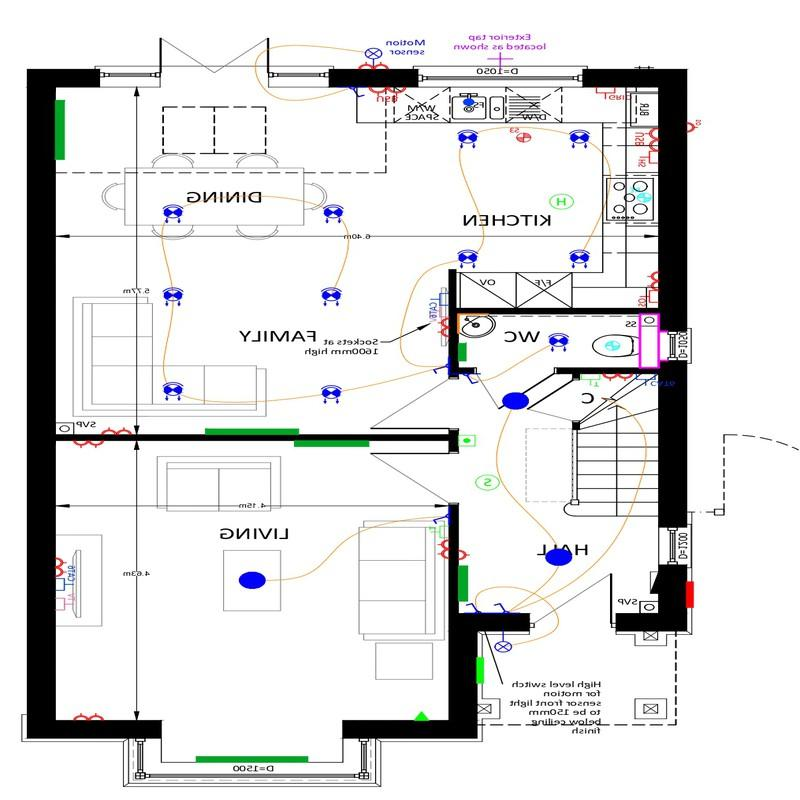BT Entry Point: (411, 706, 433, 723)
Cat 6 Data Socket: (53, 577, 89, 592), (635, 371, 658, 394), (428, 288, 450, 307)
Ceiling Mounted Continuous Extract Fan With Boost Mode Activated By Light Switch: (600, 337, 627, 358)
Ceiling Mounted Continuous Extract Fan With Local Boost Switch: (505, 120, 535, 148)
Co-Ax TV Socket: (55, 596, 80, 620), (422, 306, 449, 318)
Consumer Unit: (644, 564, 662, 601)
Double Socket: (68, 438, 111, 451), (100, 422, 138, 436), (603, 370, 632, 388), (69, 709, 108, 722), (355, 57, 390, 71), (640, 266, 659, 291), (431, 317, 449, 340), (53, 553, 70, 577), (432, 538, 450, 560)
Electric Meter Box: (682, 577, 702, 613)
External Wall Light: (492, 628, 515, 661), (363, 37, 386, 68)
Gas Meter Box: (474, 657, 489, 690)
Grid Switch: (592, 86, 633, 104)
Hob Switch: (635, 146, 659, 169)
Light Switch: (345, 83, 371, 102), (430, 358, 450, 381), (463, 599, 489, 614), (459, 373, 483, 388), (429, 510, 450, 526), (493, 599, 515, 614)
Low Energy Downlighter: (156, 375, 190, 410), (452, 126, 489, 154), (563, 242, 595, 274), (318, 380, 350, 410), (157, 280, 188, 310), (319, 279, 342, 317), (155, 200, 189, 225), (544, 326, 573, 355), (318, 199, 348, 226), (455, 245, 483, 272), (565, 128, 591, 154)
Low Energy Pendant Light: (536, 542, 584, 569), (233, 565, 274, 594), (501, 387, 533, 417)
Mains Wired Smoke Detector: (473, 471, 499, 494)
Outside Socket: (685, 114, 705, 143)
Outside Tap: (478, 48, 518, 75)
Oven Switch: (635, 287, 660, 310)
Programmable Room Thermostat: (458, 432, 477, 449)
Radiator: (189, 750, 314, 764), (50, 97, 75, 164), (198, 423, 304, 436), (281, 437, 371, 452), (455, 564, 478, 605), (456, 341, 475, 367)
Recirculating Extractor Fan: (623, 181, 656, 212)
Single Socket: (455, 544, 473, 563)
Telephone Socket: (579, 371, 604, 394), (429, 526, 450, 540)
USB Double Socket: (365, 83, 408, 104), (633, 121, 659, 153)
Water Entry Position: (458, 93, 479, 109)
